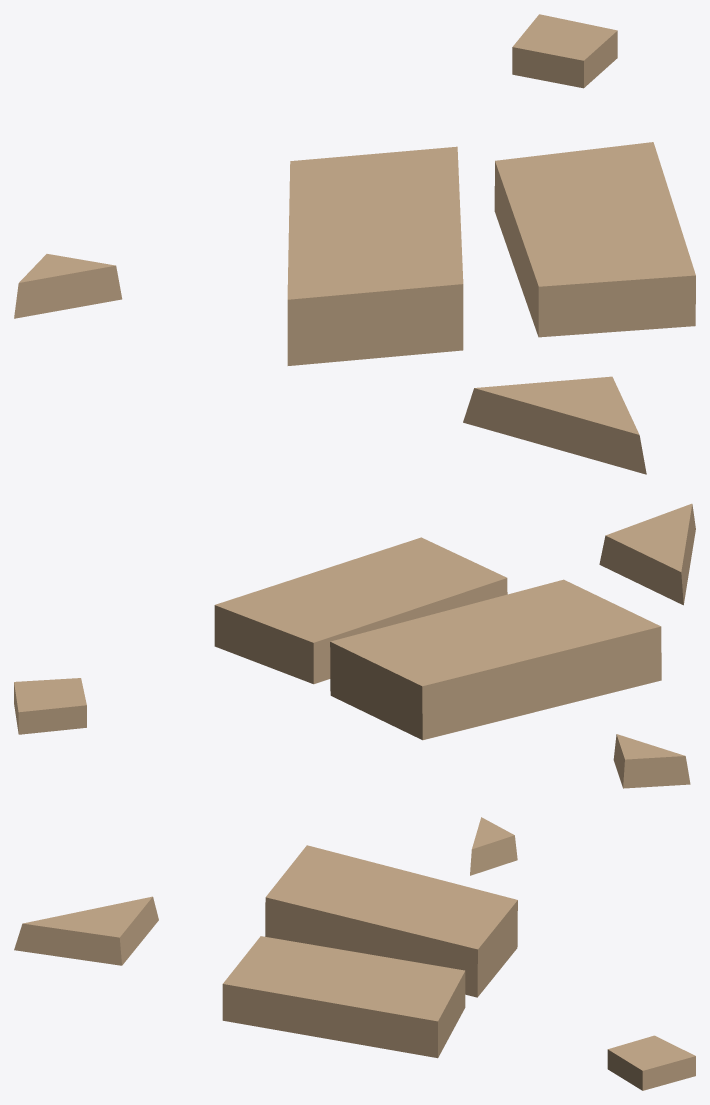
File: Rocks_Flat_s_03.fbx
3 views of the same model, one above another, from view 1: azimuth 30°, elevation 25°; view 2: azimuth 150°, elevation 25°; view 3: azimuth 270°, elevation 25° (orthographic). The views are drawn at different scales.
Visible parts, largest first — view 1: Rocks_Flat_s_03; view 2: Rocks_Flat_s_03; view 3: Rocks_Flat_s_03.
Boxes of the visible parts, x1,y1,x2,y2 form: Rocks_Flat_s_03: (14, 14, 695, 474); Rocks_Flat_s_03: (14, 503, 695, 788); Rocks_Flat_s_03: (14, 817, 695, 1090).
Bounding box in the file's own units: 46.56 × 4.38 × 52.72.
